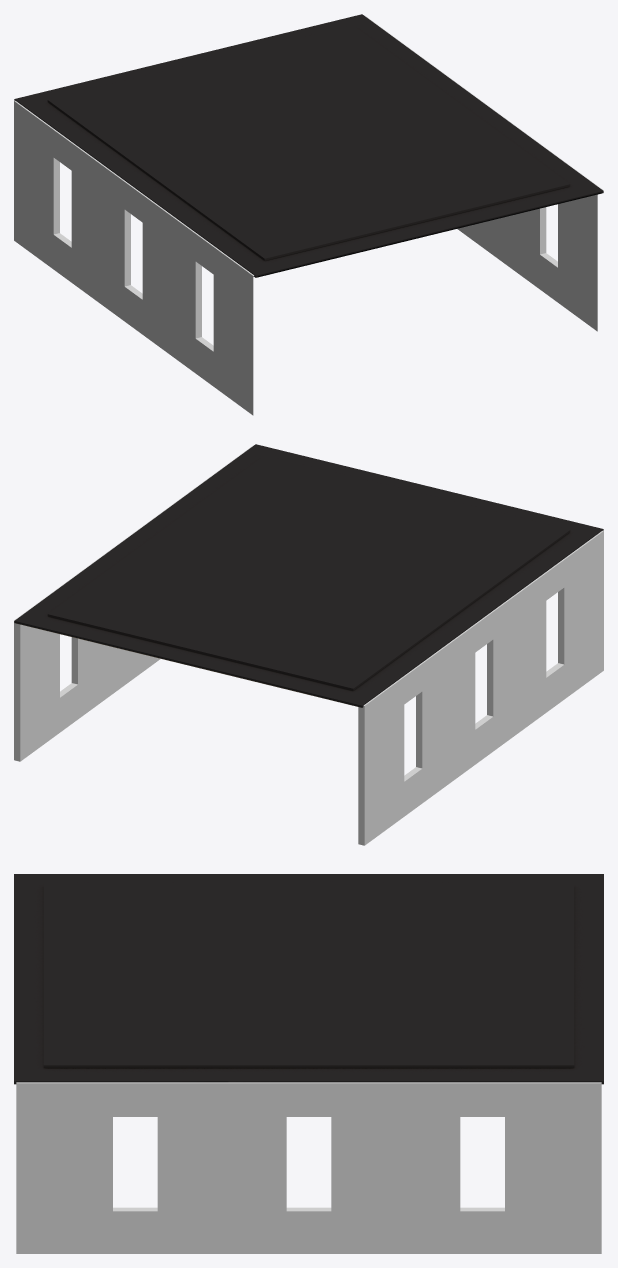
File: hall-baked.glb
3 views of the same model, one above another, from view 1: azimuth 30°, elevation 25°; view 2: azimuth 150°, elevation 25°; view 3: azimuth 270°, elevation 25° (orthographic). The views are drawn at different scales.
Visible parts, largest first — view 1: Ceiling, Shell; view 2: Ceiling, Shell; view 3: Ceiling, Shell.
Part boxes in pixels (left/top/right/bottom): Ceiling: left=14, top=14, right=603, bottom=277; Shell: left=14, top=15, right=603, bottom=415; Ceiling: left=14, top=444, right=603, bottom=707; Shell: left=14, top=445, right=603, bottom=845; Ceiling: left=14, top=874, right=603, bottom=1084; Shell: left=16, top=1082, right=601, bottom=1253.
Bounding box in the file's own units: 9.98 × 3.9 × 11.9.
Materials: 1 (1 with a texture image).
